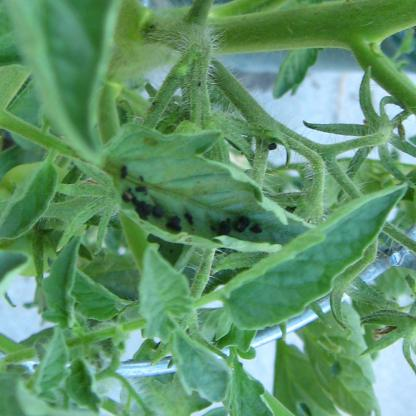Tomato leaf: (211, 184, 411, 325)
